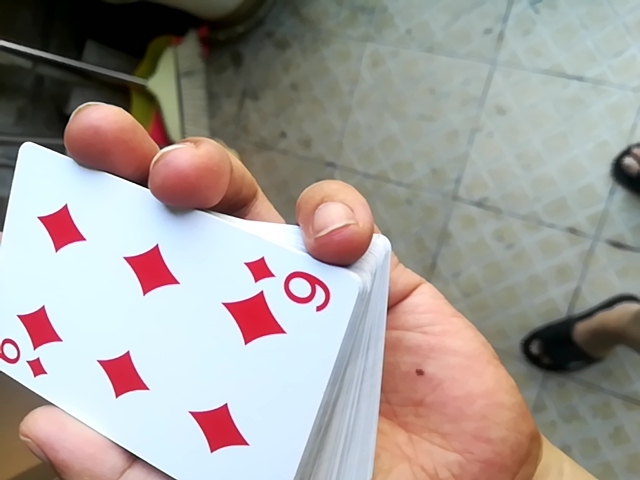fk 6: (3, 141, 373, 478)
